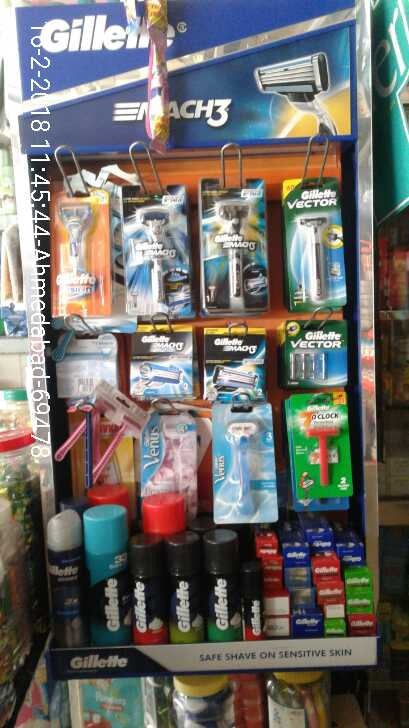gillette: (120, 180, 195, 322), (278, 176, 350, 307), (208, 399, 284, 523), (43, 188, 114, 318), (202, 176, 267, 315), (81, 506, 132, 647), (138, 412, 197, 531), (44, 511, 84, 655), (122, 326, 195, 397), (282, 313, 352, 385), (199, 323, 266, 394), (163, 539, 204, 646), (202, 525, 238, 645), (128, 540, 163, 643), (241, 553, 264, 644)
